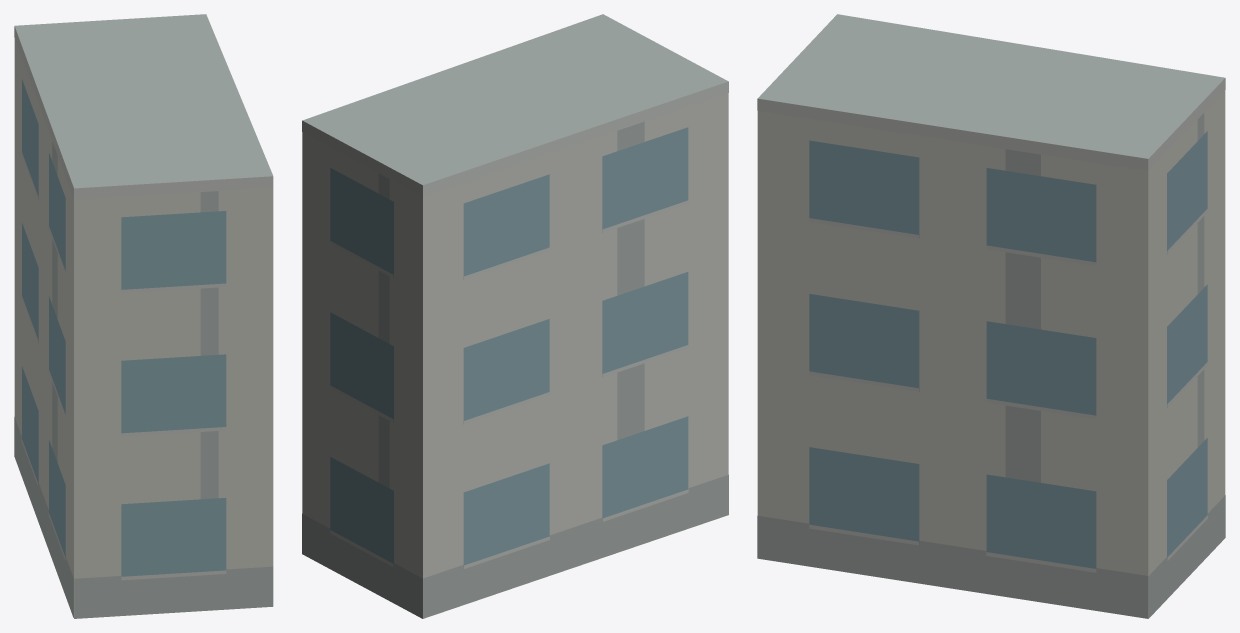
Rendered from survey-upis-32531260.glb.
3 renders of one model, left to right at view 1: azimuth 30°, elevation 25°; view 2: azimuth 150°, elevation 25°; view 3: azimuth 270°, elevation 25°, orthographic. The views are drawn at different scales.
Parts seen in each view (by area): view 1: survey-upis-32531260.tmp; view 2: survey-upis-32531260.tmp; view 3: survey-upis-32531260.tmp.
Boxes of the visible parts, bbox=[...] form: survey-upis-32531260.tmp: bbox=[14, 14, 273, 618]; survey-upis-32531260.tmp: bbox=[302, 14, 728, 618]; survey-upis-32531260.tmp: bbox=[757, 14, 1225, 618].
Size of the model in its own units: 6.19 by 9.15 by 8.45.
